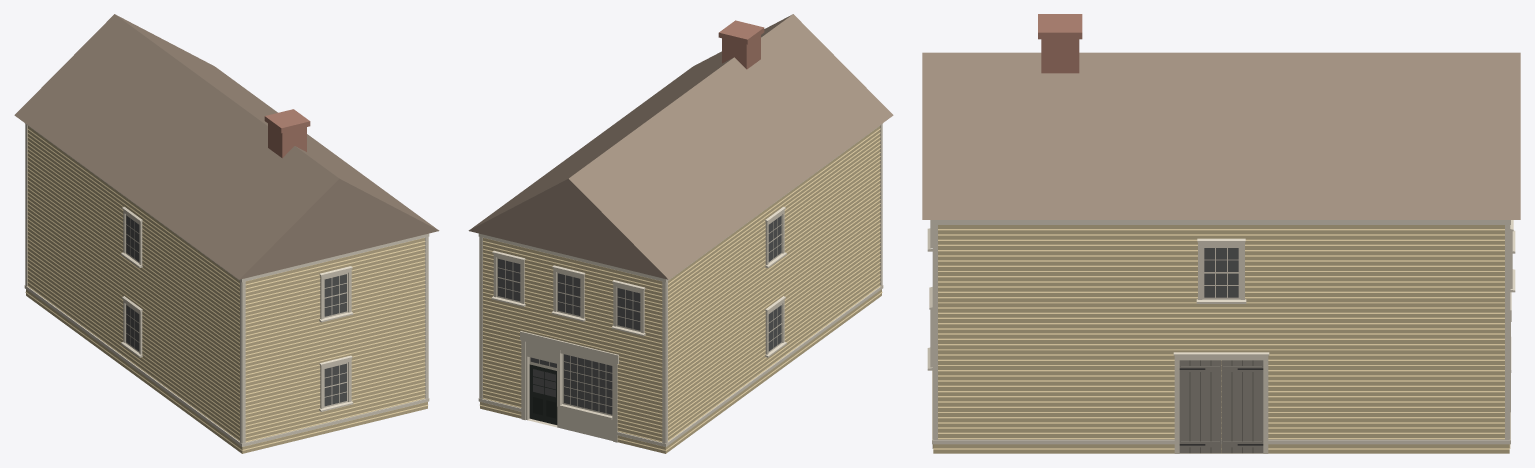
Rendered from recon_1835_core_c3_058__inferred_1835.glb.
3 renders of one model, left to right at view 1: azimuth 30°, elevation 25°; view 2: azimuth 150°, elevation 25°; view 3: azimuth 270°, elevation 25°, orthographic. The views are drawn at different scales.
Parts seen in each view (by area): view 1: recon_1835_core_c3_058__inferred_1835; view 2: recon_1835_core_c3_058__inferred_1835; view 3: recon_1835_core_c3_058__inferred_1835.
Boxes of the visible parts, bbox=[...] form: recon_1835_core_c3_058__inferred_1835: bbox=[14, 14, 439, 453]; recon_1835_core_c3_058__inferred_1835: bbox=[468, 14, 893, 453]; recon_1835_core_c3_058__inferred_1835: bbox=[922, 14, 1520, 453].
Bounding box in the file's own units: 6.8 × 9 × 13.2.
